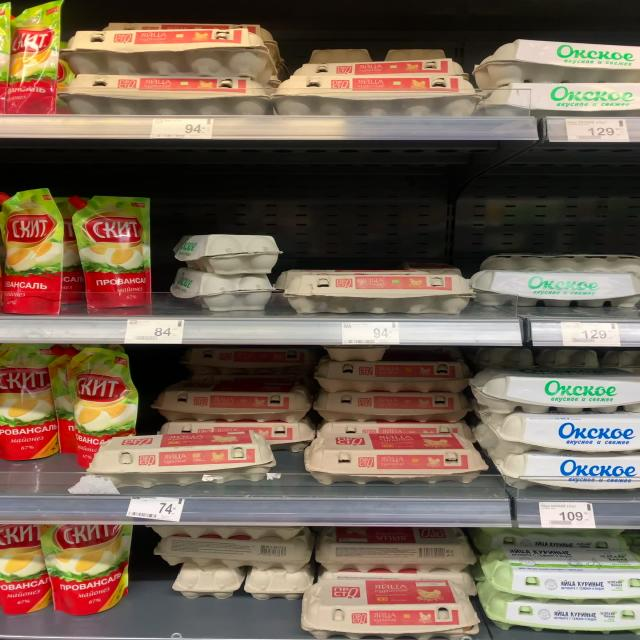egg box: (304, 420, 491, 484), (302, 571, 478, 637), (67, 28, 277, 81), (68, 189, 152, 312), (476, 541, 638, 601), (90, 437, 280, 488), (275, 264, 469, 313), (55, 343, 129, 470), (473, 256, 636, 312), (34, 522, 132, 614), (466, 361, 636, 413), (276, 74, 472, 119), (64, 73, 268, 113), (480, 585, 636, 636), (474, 36, 638, 84), (0, 189, 62, 314), (153, 379, 313, 421), (476, 413, 636, 453), (2, 344, 56, 460), (316, 529, 471, 569), (316, 358, 465, 394), (12, 2, 60, 112), (311, 388, 468, 421), (480, 81, 636, 114), (180, 344, 316, 379), (286, 57, 461, 78)
